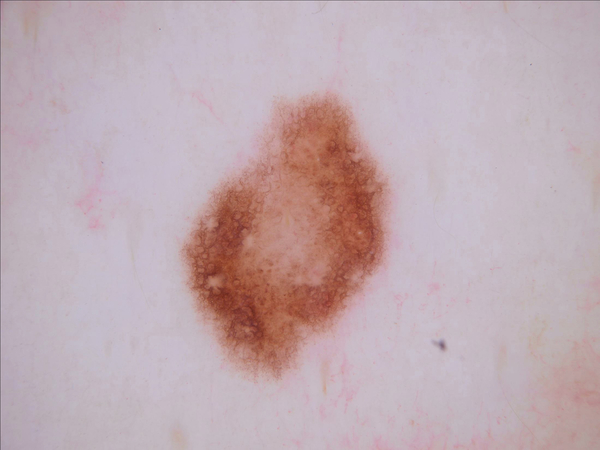Detected Lesion: (175, 84, 395, 382)
